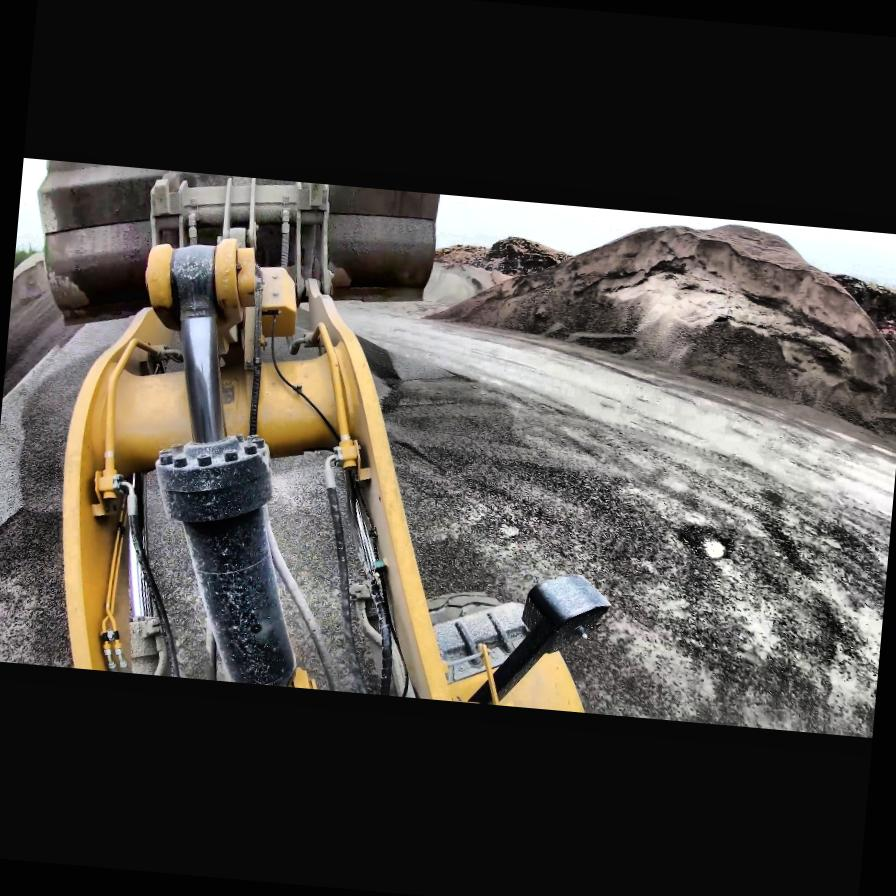anchor: (139, 235, 273, 340)
pile of gravel: (416, 197, 896, 437)
